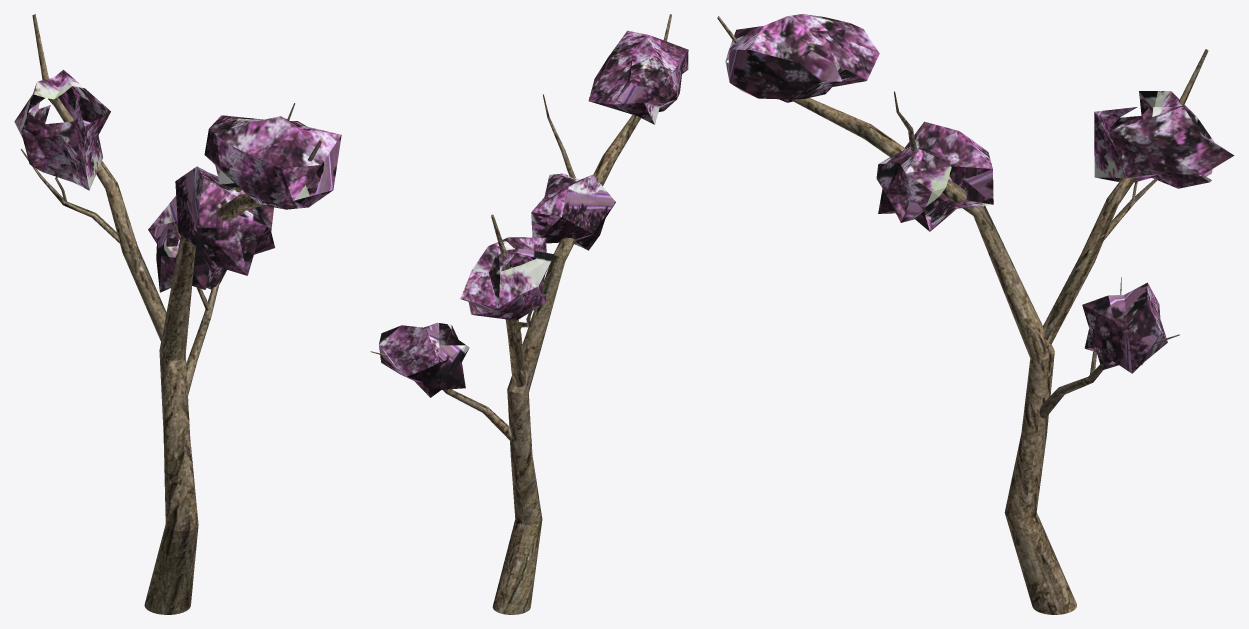
File: PurplePlantDry.fbx
3 renders of one model, left to right at view 1: azimuth 30°, elevation 25°; view 2: azimuth 150°, elevation 25°; view 3: azimuth 270°, elevation 25°, orthographic. The views are drawn at different scales.
Parts seen in each view (by area): view 1: PurplePlantDry; view 2: PurplePlantDry; view 3: PurplePlantDry.
Boxes of the visible parts, <box> form: PurplePlantDry: <box>14,14,341,614</box>; PurplePlantDry: <box>370,14,688,614</box>; PurplePlantDry: <box>717,14,1234,614</box>.
Bounding box in the file's own units: 0.2935 × 0.6285 × 0.7779.
